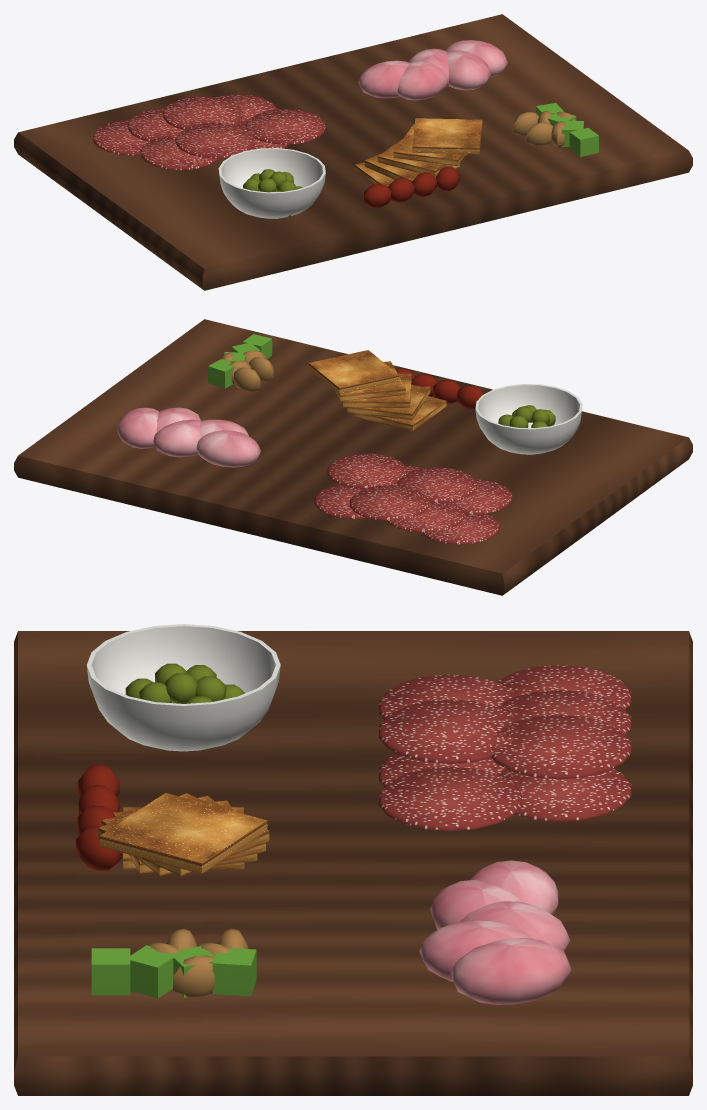
Rendered from deli_charcuterie_board.glb.
3 renders of one model, top to bottom at view 1: azimuth 30°, elevation 25°; view 2: azimuth 150°, elevation 25°; view 3: azimuth 270°, elevation 25°, orthographic. The views are drawn at different scales.
Visible parts, largest first — view 1: deli_charcuterie_board; view 2: deli_charcuterie_board; view 3: deli_charcuterie_board.
Boxes of the visible parts, bbox=[...] form: deli_charcuterie_board: bbox=[14, 14, 692, 290]; deli_charcuterie_board: bbox=[14, 319, 692, 595]; deli_charcuterie_board: bbox=[14, 624, 692, 1095].
Bounding box in the file's own units: 0.42 × 0.048 × 0.28.
Materials: 9 (4 with a texture image).
